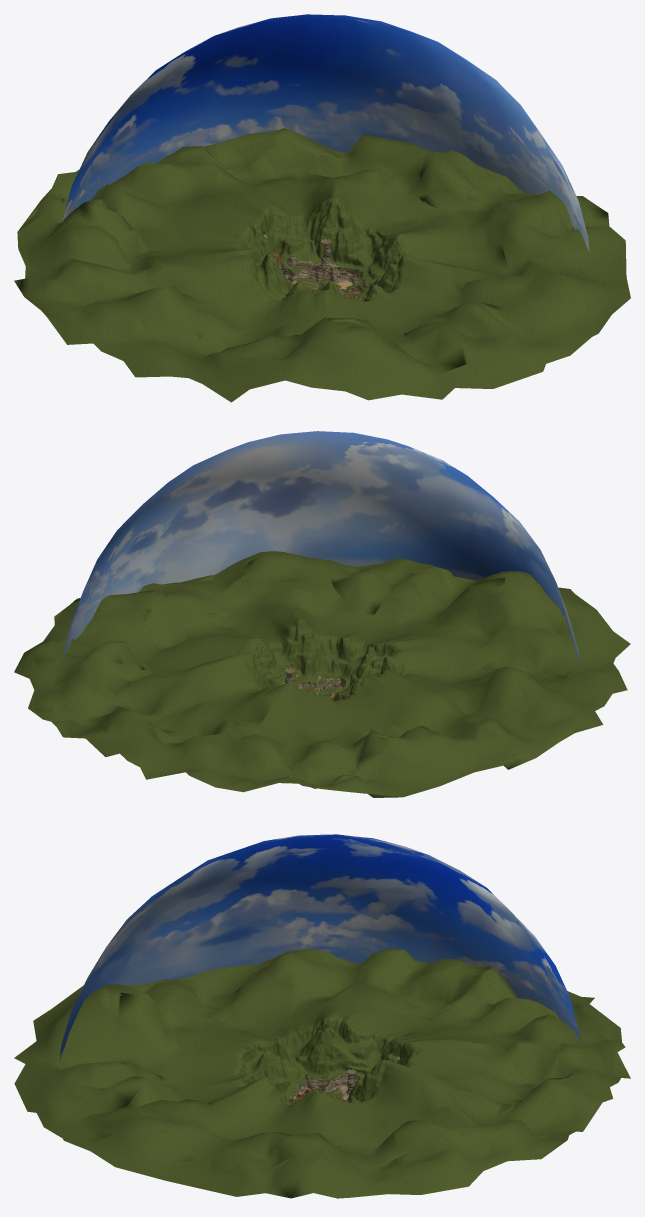
File: spiral_mountain_reimagined.glb
3 renders of one model, top to bottom at view 1: azimuth 30°, elevation 25°; view 2: azimuth 150°, elevation 25°; view 3: azimuth 270°, elevation 25°, orthographic. The views are drawn at different scales.
Parts seen in each view (by area): view 1: Spiral Mountain_foliage_grasssurface_0, Spiral Mountain_skys_blue03_0, Spiral Mountain_cliff2_0; view 2: Spiral Mountain_foliage_grasssurface_0, Spiral Mountain_skys_blue03_0; view 3: Spiral Mountain_foliage_grasssurface_0, Spiral Mountain_skys_blue03_0, Spiral Mountain_cliff2_0.
Boxes of the visible parts, box(x1,y1,x2,y2) form: Spiral Mountain_foliage_grasssurface_0: box(14, 128, 630, 402); Spiral Mountain_skys_blue03_0: box(62, 14, 589, 252); Spiral Mountain_cliff2_0: box(280, 256, 369, 299); Spiral Mountain_foliage_grasssurface_0: box(14, 551, 630, 797); Spiral Mountain_skys_blue03_0: box(62, 431, 579, 663); Spiral Mountain_foliage_grasssurface_0: box(14, 948, 630, 1198); Spiral Mountain_skys_blue03_0: box(59, 834, 584, 1064); Spiral Mountain_cliff2_0: box(290, 1074, 363, 1103).
Bounding box in the file's own units: 803 × 368 × 826.
Materials: 36 (33 with a texture image).
